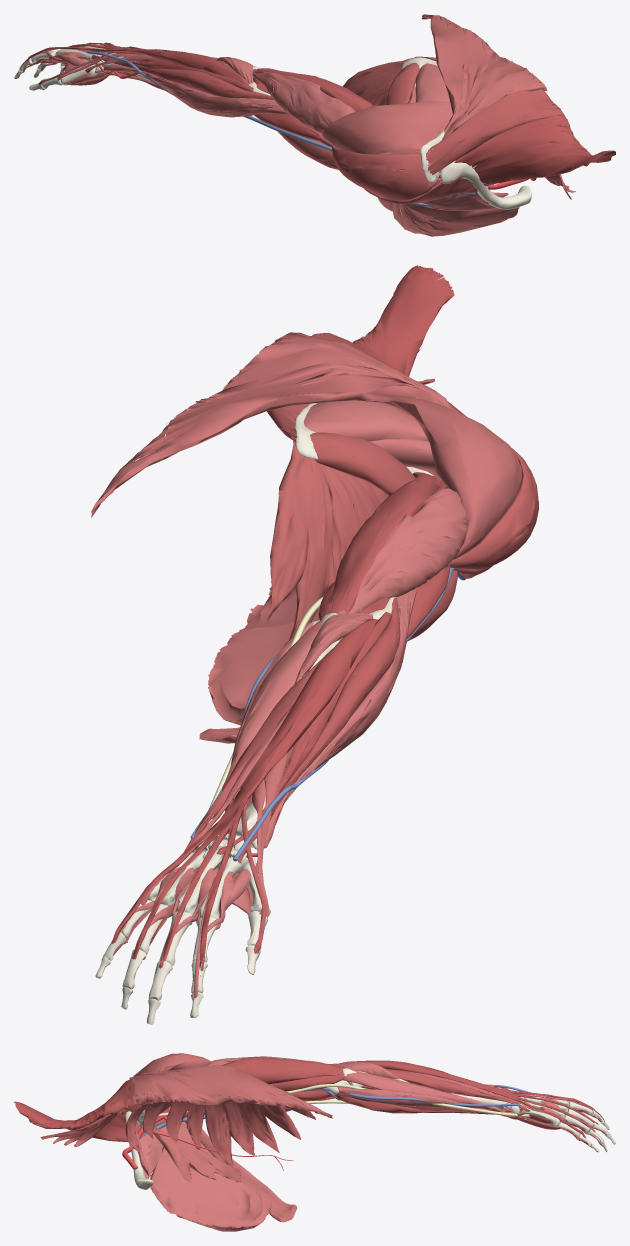
File: ekstremitas-superior-v4.glb
The picture shows the model from 3 angles, top to bottom: view 1: azimuth 30°, elevation 25°; view 2: azimuth 150°, elevation 25°; view 3: azimuth 270°, elevation 25°; orthographic projection. The views are drawn at different scales.
Parts seen in each view (by area): view 1: m_trapezius-pars-ascendens, m_trapezius-pars-descendens, m_deltoideus-pars-spinalis, m_trapezius-pars-transversa, m_deltoideus-pars-acromialis, m_triceps-brachii-caput-laterale, m_pectoralis-major-pars-sternocostalis, m_brachioradialis, m_extensor-digitorum, m_extensor-carpi-radialis-longus, m_serratus-anterior, os_clavicula (+15 smaller); view 2: m_trapezius-pars-ascendens, m_serratus-anterior, m_extensor-digitorum, m_deltoideus-pars-spinalis, m_triceps-brachii-caput-laterale, m_pectoralis-major-pars-sternocostalis, m_trapezius-pars-descendens, m_triceps-brachii-caput-longum, os_phalanges, m_extensor-carpi-radialis-longus, m_infraspinatus, m_teres-major (+11 smaller); view 3: m_serratus-anterior, m_pectoralis-major-pars-sternocostalis, m_trapezius-pars-ascendens, m_extensor-digitorum, m_triceps-brachii-caput-longum, m_pectoralis-minor, m_trapezius-pars-descendens, m_flexor-carpi-ulnaris-caput-humerale, m_flexor-carpi-ulnaris-caput-ulnare, m_pectoralis-major-pars-abdominalis, m_extensor-carpi-ulnaris, os_phalanges (+17 smaller).
Boxes of the visible parts, bbox=[...] form: m_trapezius-pars-ascendens: bbox=[422, 14, 547, 139]; m_trapezius-pars-descendens: bbox=[454, 114, 615, 186]; m_deltoideus-pars-spinalis: bbox=[322, 101, 452, 154]; m_trapezius-pars-transversa: bbox=[426, 76, 564, 174]; m_deltoideus-pars-acromialis: bbox=[331, 145, 437, 200]; m_triceps-brachii-caput-laterale: bbox=[252, 69, 355, 133]; m_pectoralis-major-pars-sternocostalis: bbox=[392, 202, 519, 236]; m_brachioradialis: bbox=[103, 64, 289, 117]; m_extensor-digitorum: bbox=[26, 42, 248, 84]; m_extensor-carpi-radialis-longus: bbox=[91, 55, 273, 99]; m_serratus-anterior: bbox=[342, 58, 493, 184]; os_clavicula: bbox=[440, 160, 531, 209]; m_trapezius-pars-ascendens: bbox=[91, 332, 453, 517]; m_serratus-anterior: bbox=[266, 417, 389, 639]; m_extensor-digitorum: bbox=[111, 618, 378, 970]; m_deltoideus-pars-spinalis: bbox=[383, 396, 521, 559]; m_triceps-brachii-caput-laterale: bbox=[337, 488, 467, 614]; m_pectoralis-major-pars-sternocostalis: bbox=[208, 587, 325, 725]; m_trapezius-pars-descendens: bbox=[352, 265, 454, 376]; m_triceps-brachii-caput-longum: bbox=[323, 472, 447, 616]; os_phalanges: bbox=[95, 900, 267, 1024]; m_extensor-carpi-radialis-longus: bbox=[233, 597, 400, 863]; m_infraspinatus: bbox=[303, 400, 428, 441]; m_teres-major: bbox=[310, 432, 415, 495]; m_serratus-anterior: bbox=[125, 1090, 315, 1166]; m_pectoralis-major-pars-sternocostalis: bbox=[150, 1121, 272, 1231]; m_trapezius-pars-ascendens: bbox=[129, 1065, 332, 1118]; m_extensor-digitorum: bbox=[334, 1060, 598, 1138]; m_triceps-brachii-caput-longum: bbox=[223, 1057, 344, 1084]; m_pectoralis-minor: bbox=[142, 1121, 242, 1182]; m_trapezius-pars-descendens: bbox=[14, 1101, 127, 1141]; m_flexor-carpi-ulnaris-caput-humerale: bbox=[337, 1087, 524, 1119]; m_flexor-carpi-ulnaris-caput-ulnare: bbox=[343, 1072, 490, 1108]; m_pectoralis-major-pars-abdominalis: bbox=[185, 1121, 297, 1222]; m_extensor-carpi-ulnaris: bbox=[386, 1069, 530, 1111]; os_phalanges: bbox=[558, 1101, 615, 1152].
Bounding box in the file's own units: 0.328 × 0.2433 × 0.8535.
